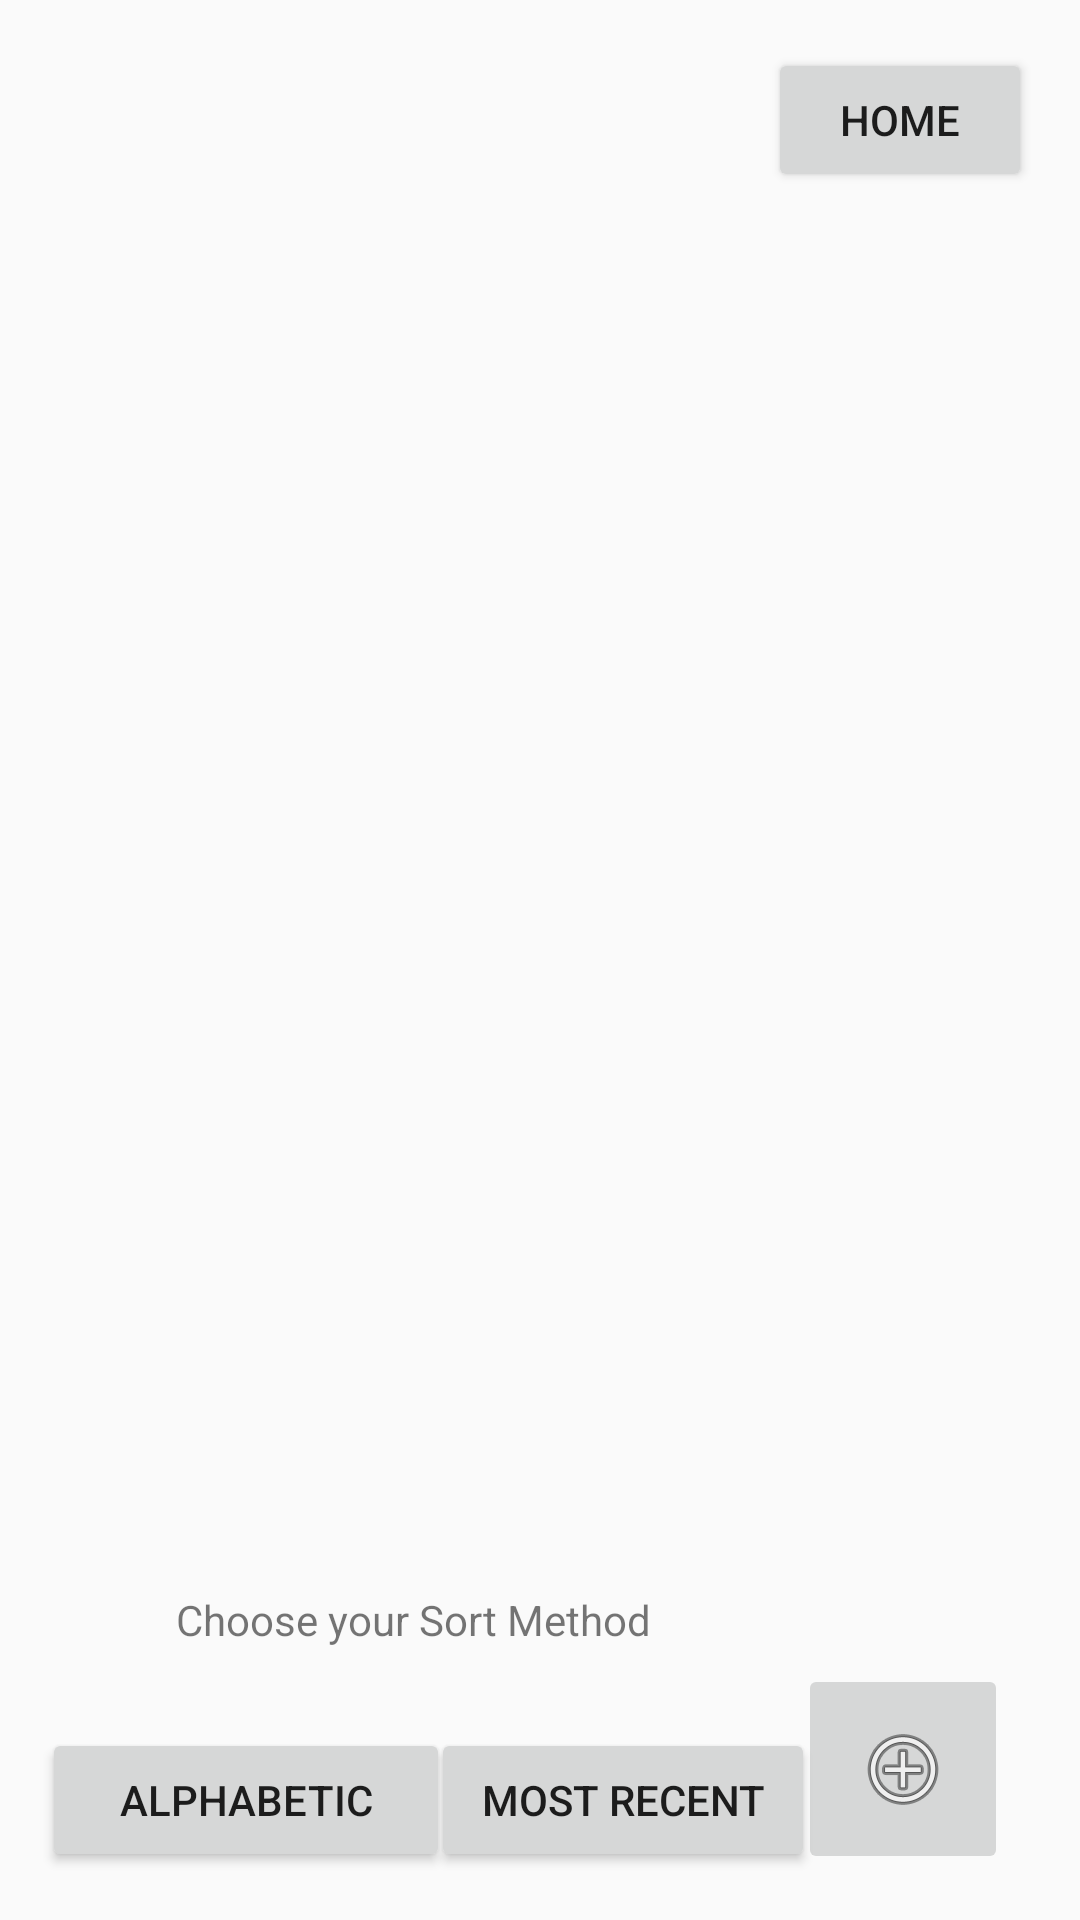

Named icons in this screenshot (1080 × 1920) and their bounding boxes, (x1, y1, x2, y2):
add: (810, 1682, 996, 1856)
